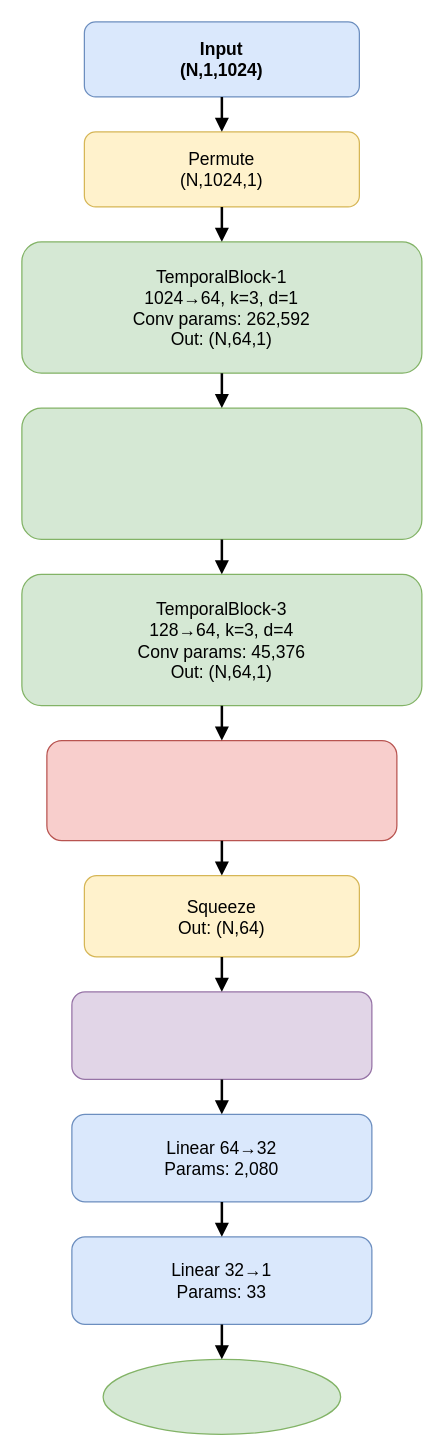
Image size: 444x1456. Some labels were removed from this diagram. Here are the shapes that lost their labels. From the top down, the centre of each, then its label:
[221,473]: TemporalBlock-2 64→128, k=3, d=2 Conv params: 82,560 Out: (N,128,1)
[221,790]: AdaptiveMaxPool1d(1) Out: (N,64,1)
[221,1035]: BatchNorm1d(64) Params: 128
[221,1396]: Sigmoid Out: (N,1)
